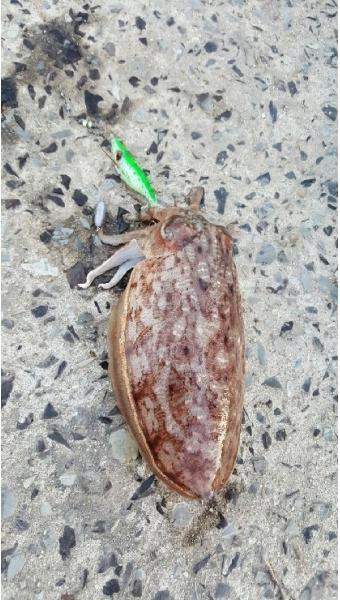Cephalopod: (77, 188, 245, 504)
